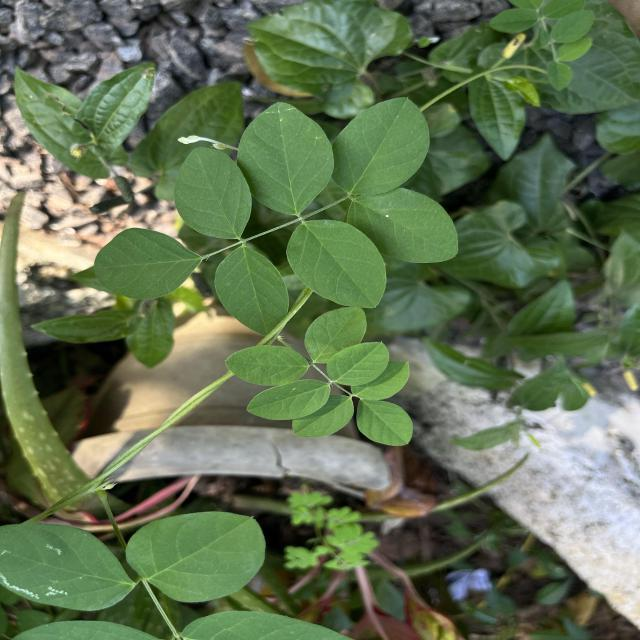Clitoria ternatea: (236, 101, 335, 216), (330, 96, 431, 198), (284, 218, 388, 310), (346, 186, 460, 264), (92, 227, 204, 300), (173, 147, 253, 240), (213, 245, 290, 336), (224, 344, 310, 386), (246, 378, 330, 421), (325, 341, 390, 386), (356, 398, 414, 447)
